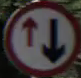Two way: (13, 10, 74, 64)
